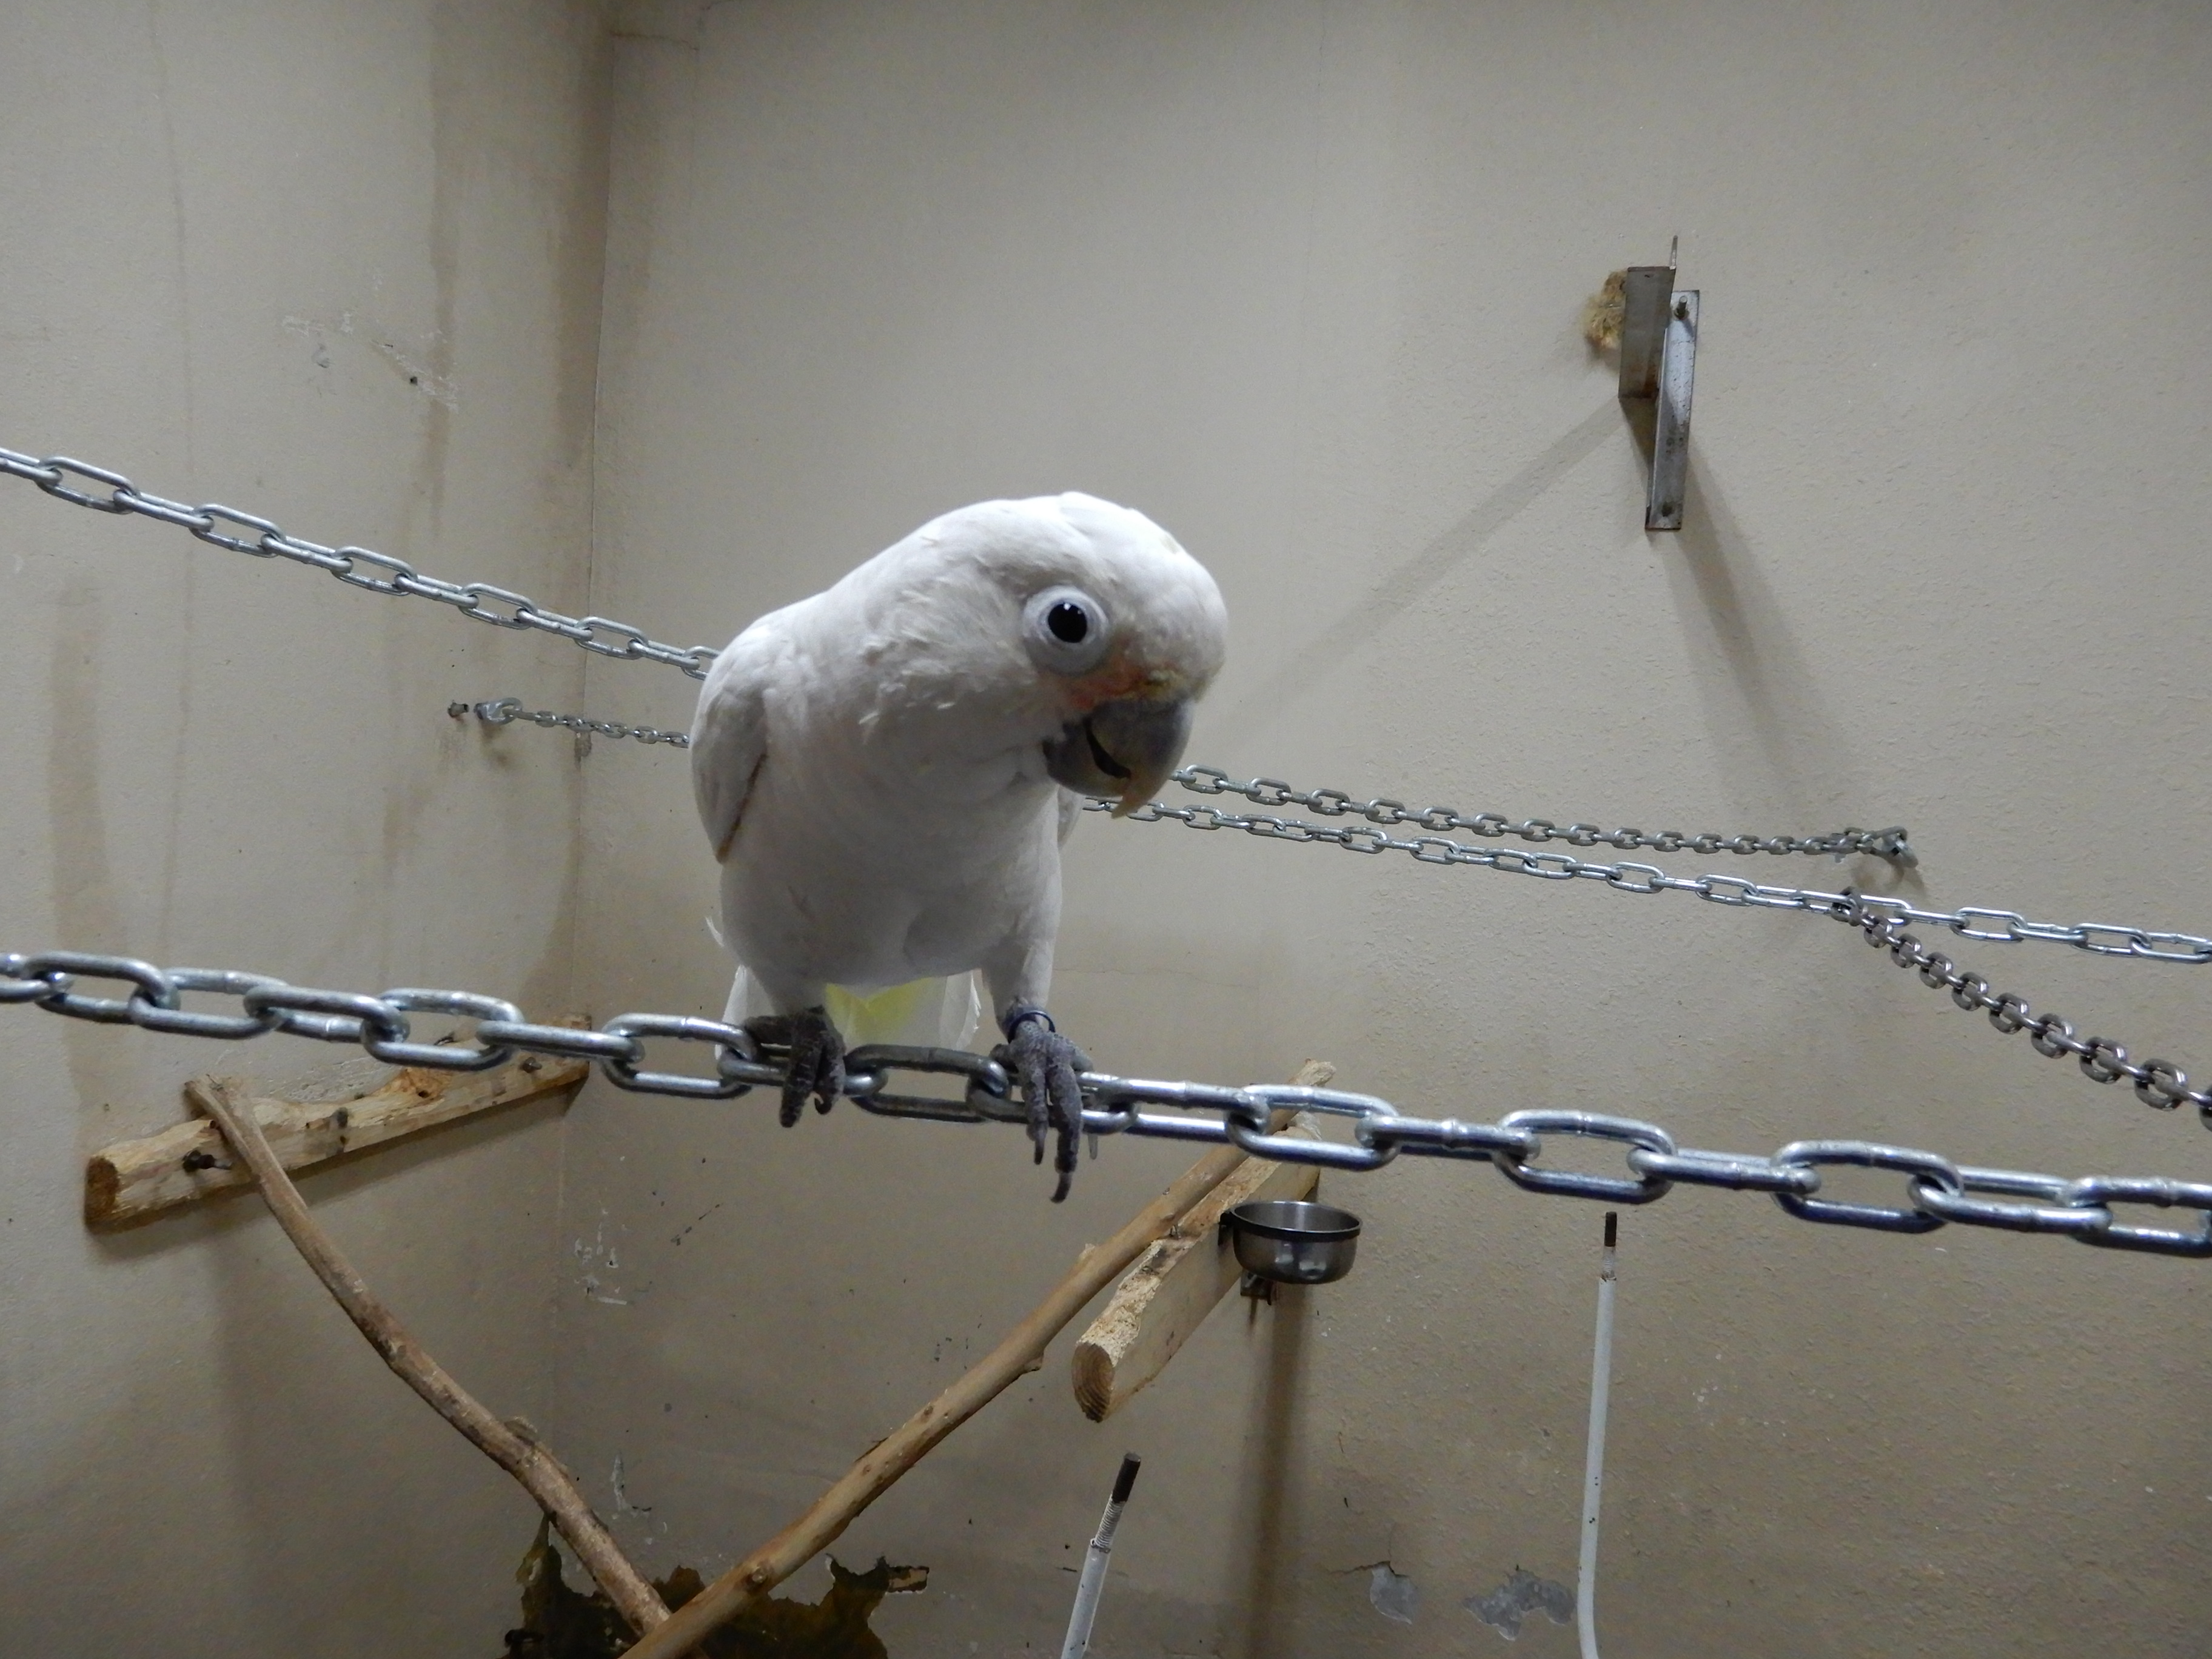Cacatua goffiniana: (672, 479, 1240, 1141)
